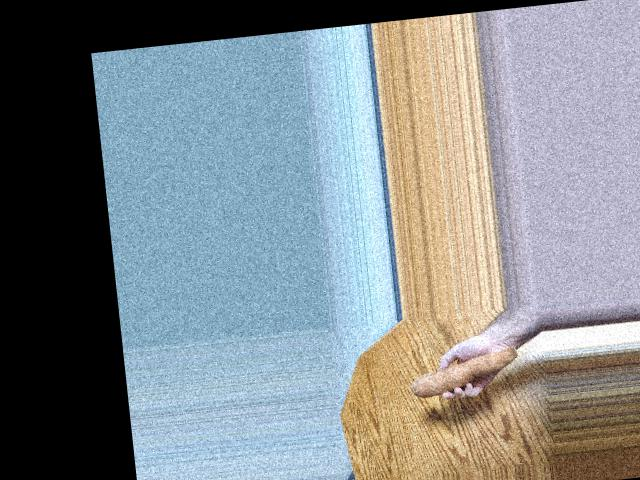sweet_potato: (405, 350, 517, 401)
